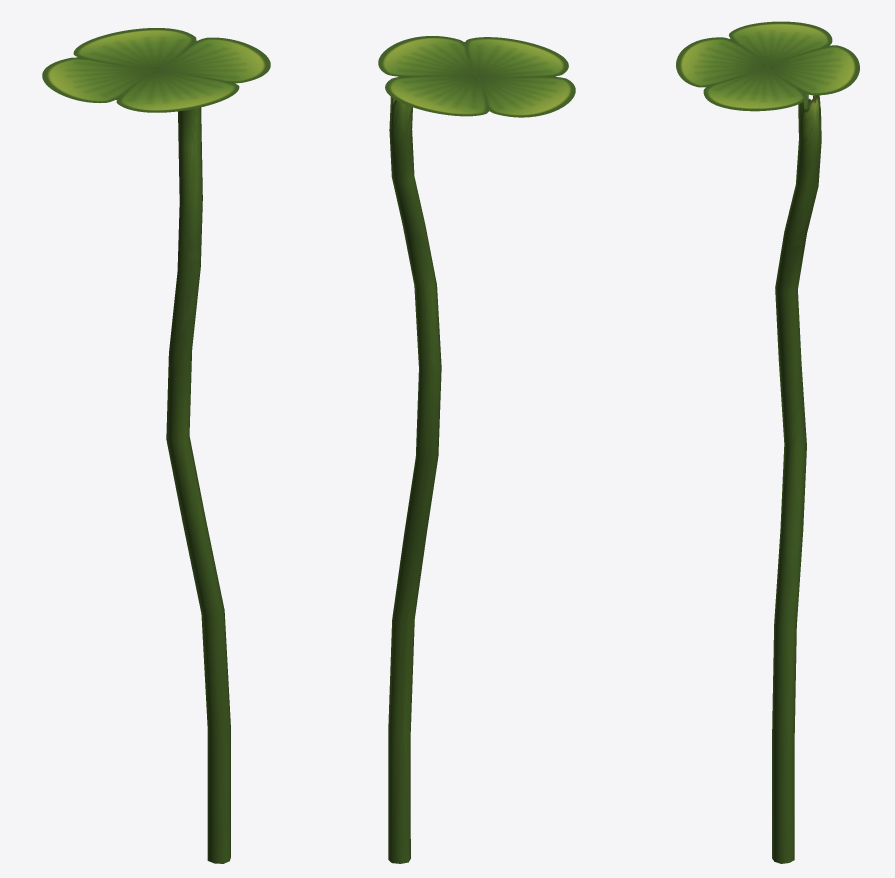
Rendered from LillypadBob.fbx.
3 views of the same model, side by side, from view 1: azimuth 30°, elevation 25°; view 2: azimuth 150°, elevation 25°; view 3: azimuth 270°, elevation 25° (orthographic). The views are drawn at different scales.
Parts seen in each view (by area): view 1: LillypadBase (1), RoofTile; view 2: LillypadBase (1), RoofTile; view 3: LillypadBase (1), RoofTile.
Part boxes in pixels (x1,y1,x2,y2): LillypadBase (1): (166,107,230,863); RoofTile: (42,28,270,112); LillypadBase (1): (388,97,441,863); RoofTile: (378,36,575,117); LillypadBase (1): (772,94,821,863); RoofTile: (676,21,859,111).
Size of the model in its own units: 0.6626 by 2.24 by 0.6033.
